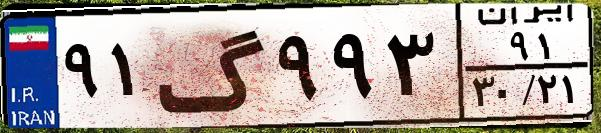0: (495, 70, 520, 125)
1: (110, 28, 156, 98), (560, 70, 590, 125), (537, 27, 568, 80)
2: (535, 70, 560, 125)
3: (385, 28, 445, 110), (470, 70, 495, 125)
9: (270, 28, 330, 110), (330, 28, 385, 110), (57, 26, 110, 100), (508, 27, 537, 80)
گ: (156, 12, 270, 120)
